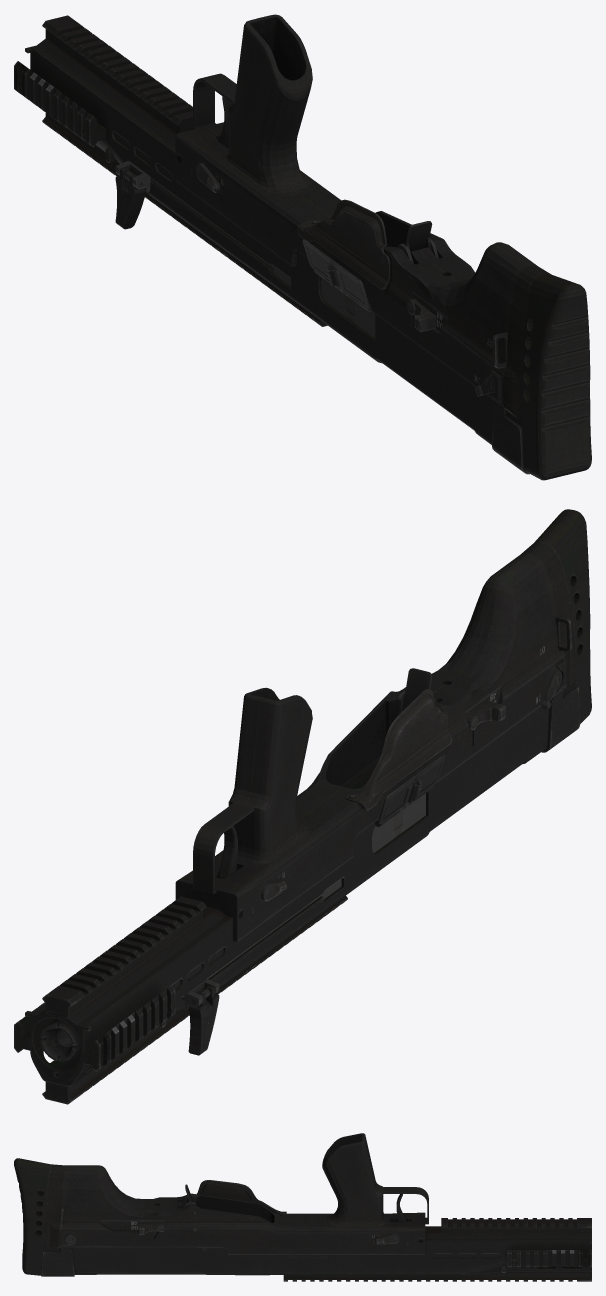
The picture shows the model from 3 angles, top to bottom: view 1: azimuth 30°, elevation 25°; view 2: azimuth 150°, elevation 25°; view 3: azimuth 270°, elevation 25°; orthographic projection. The views are drawn at different scales.
Parts seen in each view (by area): view 1: TW_5cadfbf7ae92152ac412eeef_PZ_Import; view 2: TW_5cadfbf7ae92152ac412eeef_PZ_Import; view 3: TW_5cadfbf7ae92152ac412eeef_PZ_Import.
Boxes of the visible parts, x1,y1,x2,y2 form: TW_5cadfbf7ae92152ac412eeef_PZ_Import: (14, 14, 591, 480); TW_5cadfbf7ae92152ac412eeef_PZ_Import: (14, 509, 591, 1104); TW_5cadfbf7ae92152ac412eeef_PZ_Import: (14, 1133, 591, 1281).
Size of the model in its own units: 0.0378 by 0.376 by 0.1089.
1 material, 1 textured.
